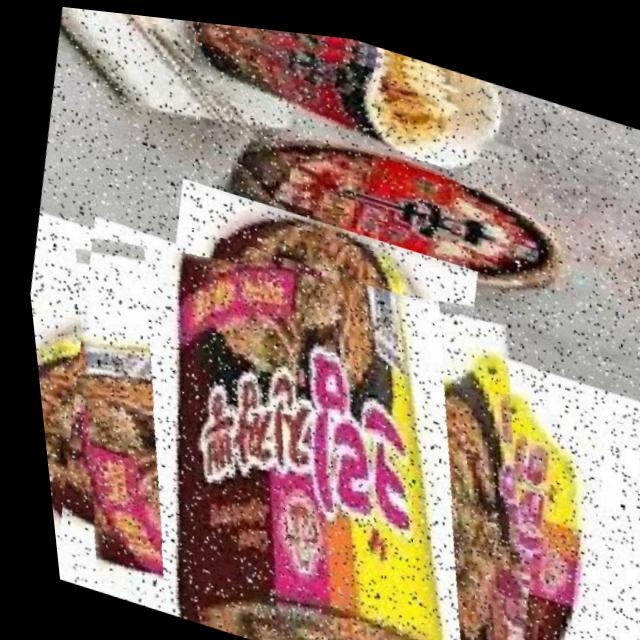Miscellaneous: (16, 189, 576, 640), (182, 16, 505, 172)
